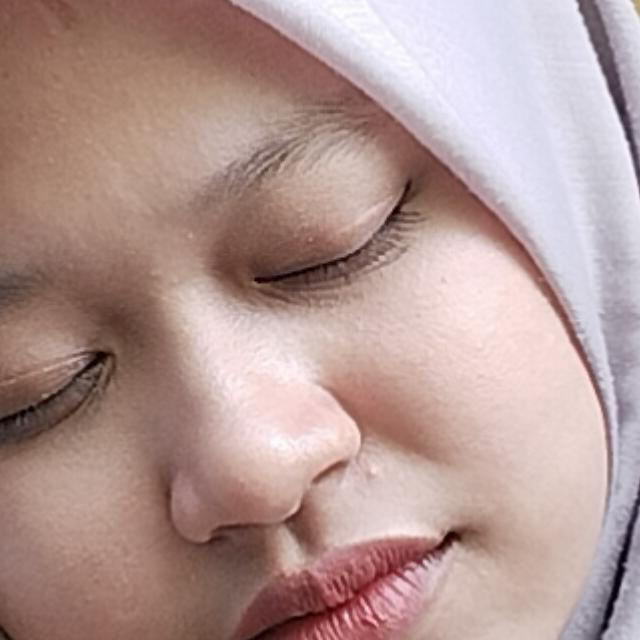tidur: (0, 318, 596, 640)
